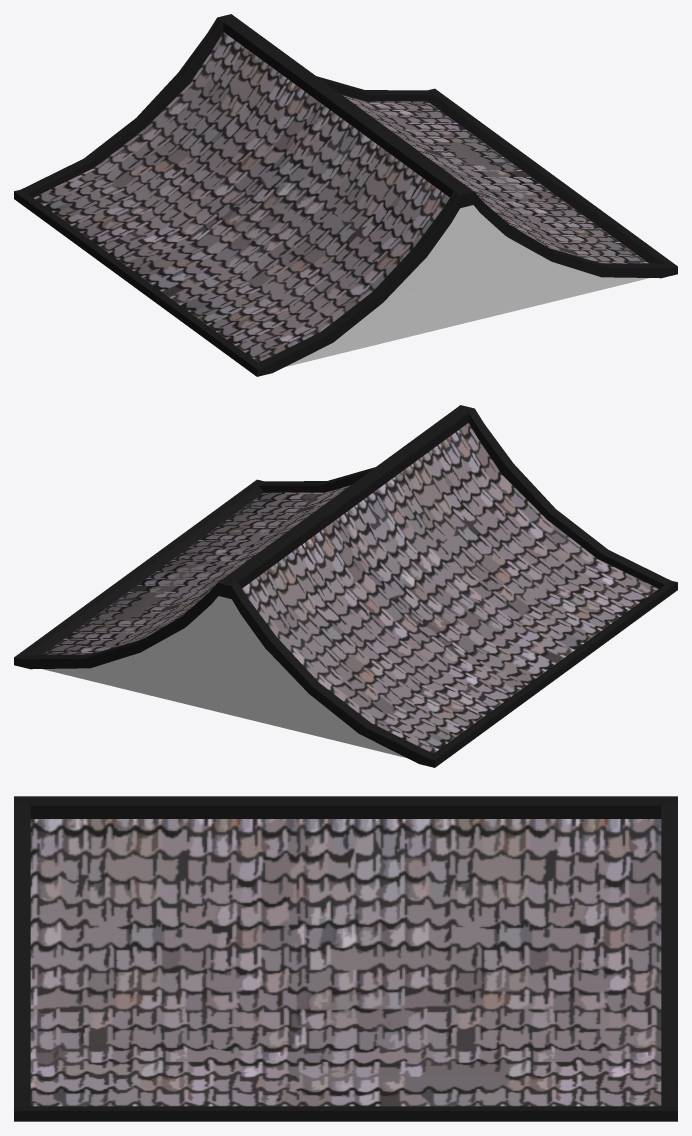
The model's file is buildingRoof.fbx.
3 views of the same model, one above another, from view 1: azimuth 30°, elevation 25°; view 2: azimuth 150°, elevation 25°; view 3: azimuth 270°, elevation 25° (orthographic). The views are drawn at different scales.
Visible parts, largest first — view 1: buildingRoof; view 2: buildingRoof; view 3: buildingRoof.
Part boxes in pixels (<box>): buildingRoof: <box>14,14,677,376</box>; buildingRoof: <box>14,405,677,767</box>; buildingRoof: <box>14,796,677,1121</box>.
Bounding box in the file's own units: 600 × 180 × 600.
